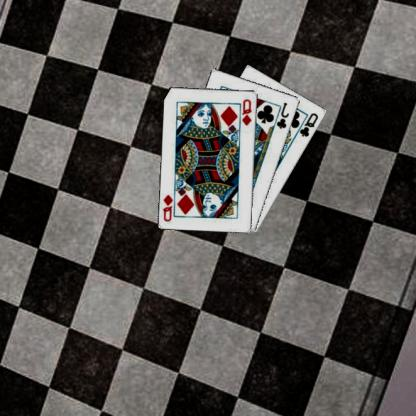JC: (276, 99, 292, 130)
QC: (299, 110, 322, 138)
QD: (162, 192, 176, 223), (241, 96, 255, 126)
